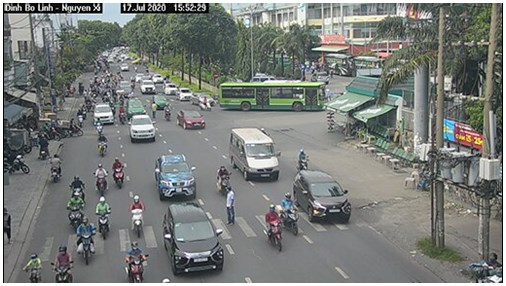di_bo: (225, 182, 236, 226), (152, 100, 157, 119)
xe_ban_tai: (151, 153, 196, 198), (128, 113, 155, 144)
xe_buyt: (217, 80, 328, 113)
xe_hoi: (162, 202, 226, 276), (293, 171, 352, 227), (177, 109, 206, 132), (93, 105, 113, 124)
xe_khach: (227, 127, 279, 180)
xe_may: (118, 241, 151, 282), (264, 204, 286, 253), (75, 216, 96, 264), (49, 245, 75, 283), (281, 193, 304, 234), (127, 192, 146, 237), (66, 191, 85, 231), (97, 196, 112, 239), (110, 154, 127, 189), (94, 162, 110, 195), (47, 153, 63, 184), (218, 164, 231, 193), (69, 173, 84, 198), (296, 143, 309, 170), (96, 130, 108, 155), (163, 103, 172, 122)
